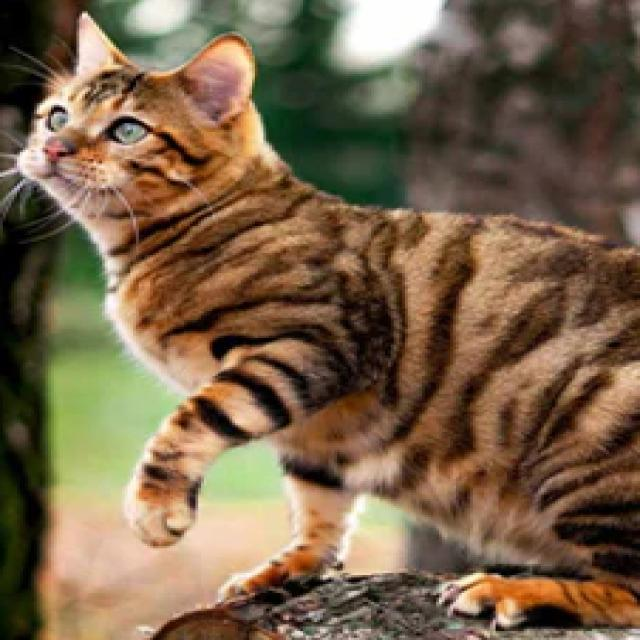Toyger: (8, 5, 640, 631)
